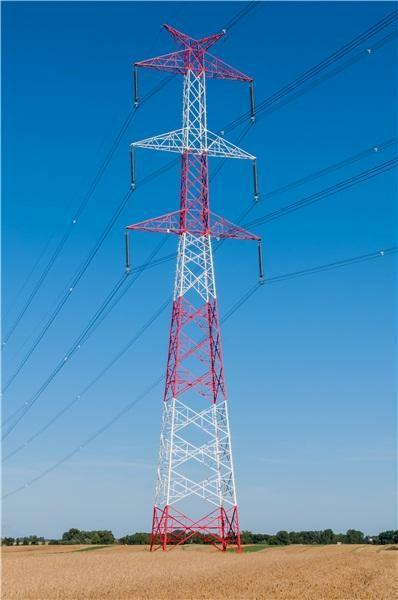power_tower: (124, 12, 270, 554)
